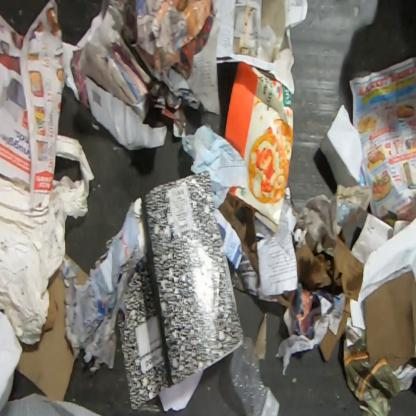cardboard: (224, 61, 294, 236), (15, 268, 77, 402), (65, 253, 91, 285)
rigid_plastic: (227, 336, 281, 415)
